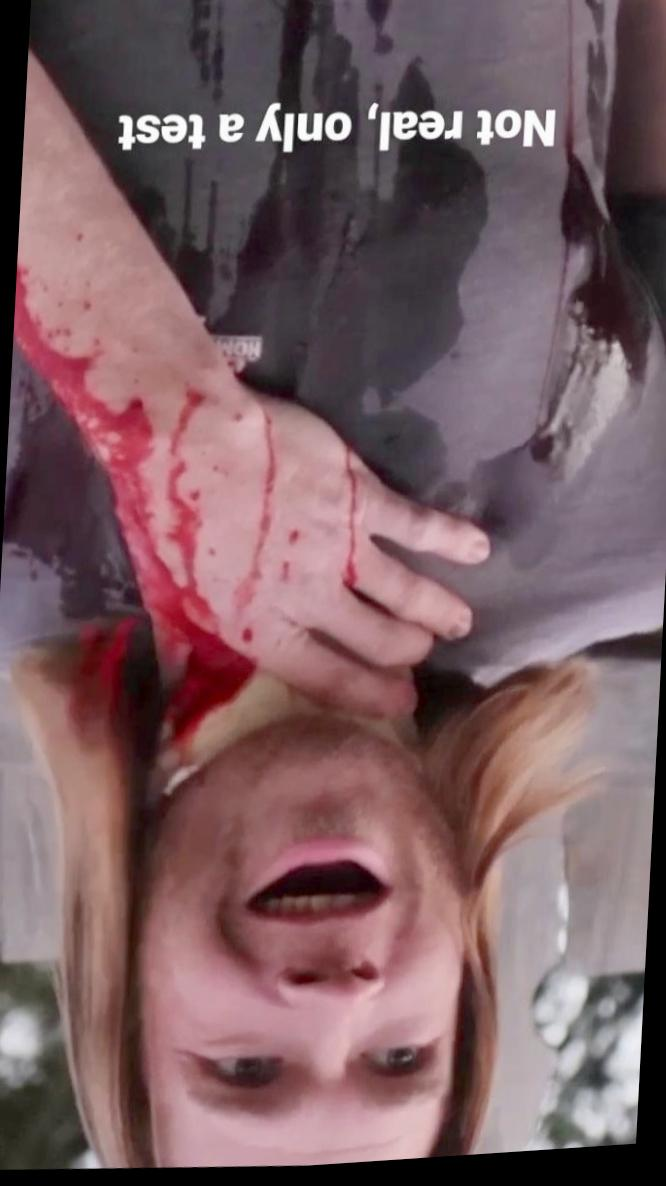Fire: (2, 265, 274, 735), (343, 446, 367, 594)
